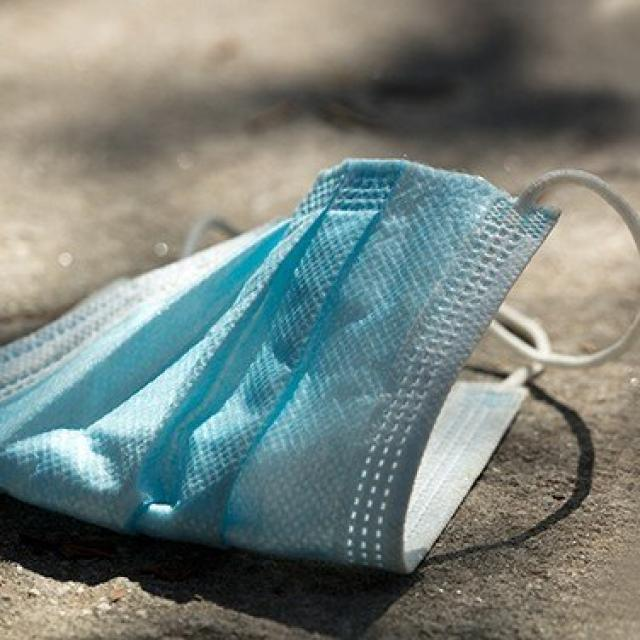face mask: (1, 151, 640, 570)
